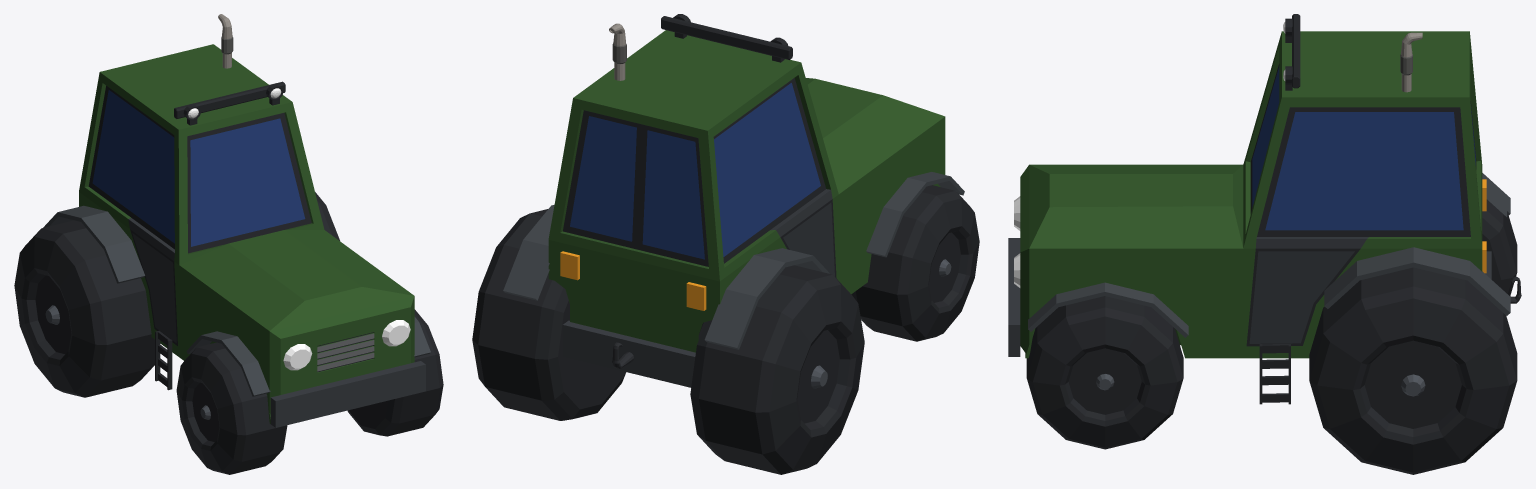
File: Tractor_2.fbx
3 renders of one model, left to right at view 1: azimuth 30°, elevation 25°; view 2: azimuth 150°, elevation 25°; view 3: azimuth 270°, elevation 25°, orthographic. The views are drawn at different scales.
Visible parts, largest first — view 1: Tractor_2, TractorBackWheels_2, TractorFrontWheels_2; view 2: Tractor_2, TractorBackWheels_2, TractorFrontWheels_2; view 3: Tractor_2, TractorBackWheels_2, TractorFrontWheels_2.
Boxes of the visible parts, x1=… form: Tractor_2: x1=43, y1=14, x2=430, y2=427; TractorBackWheels_2: x1=14, y1=192, x2=339, y2=397; TractorFrontWheels_2: x1=176, y1=309, x2=443, y2=474; Tractor_2: x1=503, y1=14, x2=964, y2=387; TractorBackWheels_2: x1=472, y1=209, x2=864, y2=474; TractorFrontWheels_2: x1=851, y1=185, x2=979, y2=341; Tractor_2: x1=1008, y1=14, x2=1521, y2=404; TractorBackWheels_2: x1=1309, y1=199, x2=1517, y2=474; TractorFrontWheels_2: x1=1026, y1=296, x2=1183, y2=449.
Size of the model in its own units: 258 by 310 by 361.
